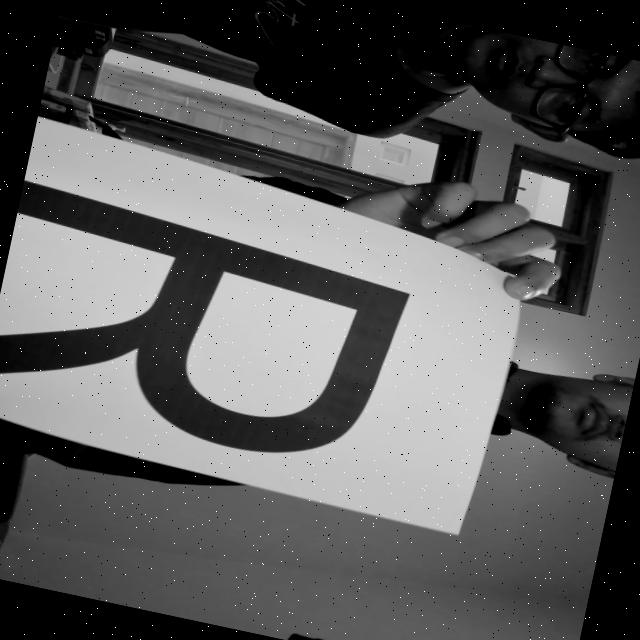r: (0, 166, 448, 496)
